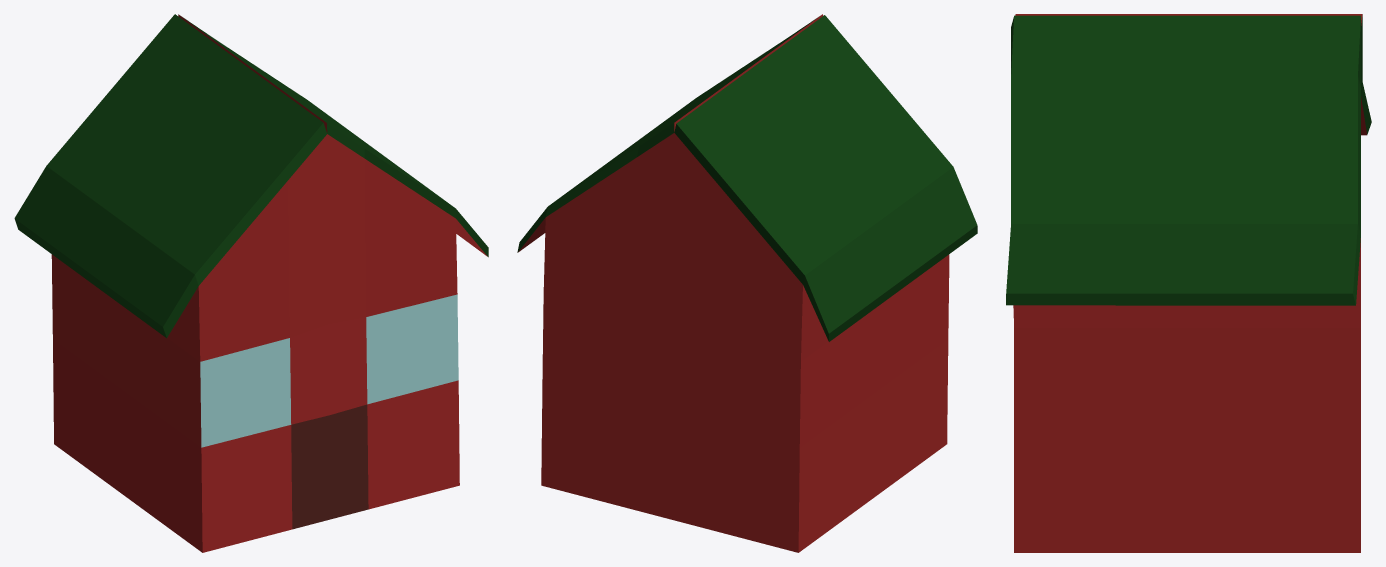
The model's file is barn.fbx.
3 renders of one model, left to right at view 1: azimuth 30°, elevation 25°; view 2: azimuth 150°, elevation 25°; view 3: azimuth 270°, elevation 25°, orthographic. The views are drawn at different scales.
Parts seen in each view (by area): view 1: Cube; view 2: Cube; view 3: Cube.
Boxes of the visible parts, left/top/right/bottom form: Cube: left=14, top=14, right=488, bottom=552; Cube: left=517, top=14, right=977, bottom=552; Cube: left=1006, top=14, right=1371, bottom=552.
Bounding box in the file's own units: 247 × 297 × 211.
